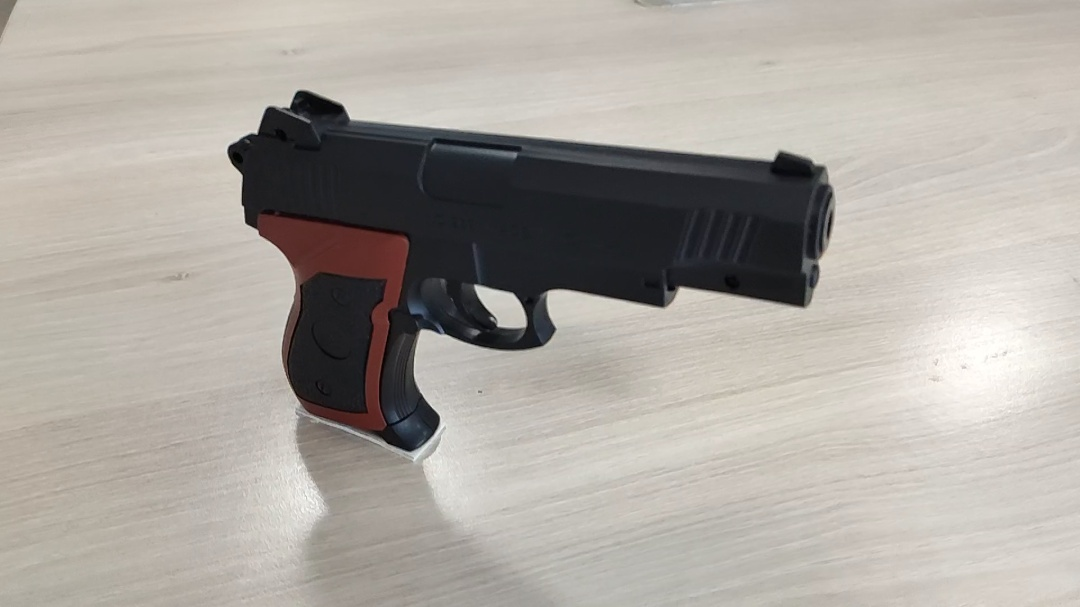gun: (606, 258, 656, 303)
